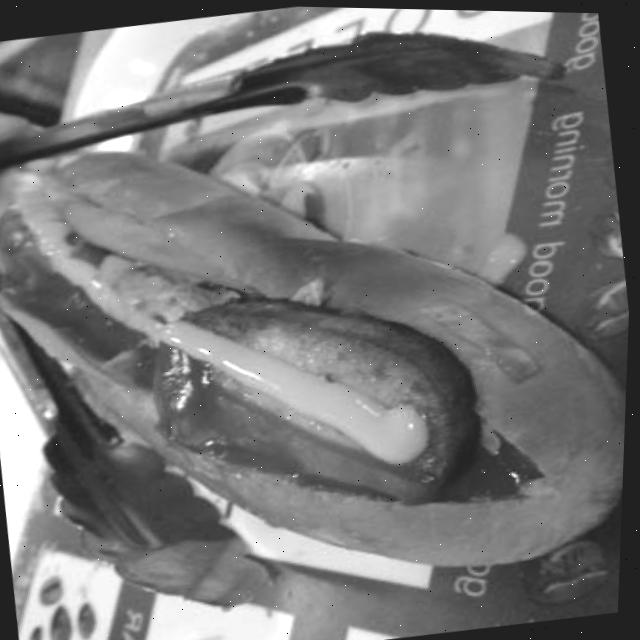汉堡快餐: (0, 65, 638, 638)
